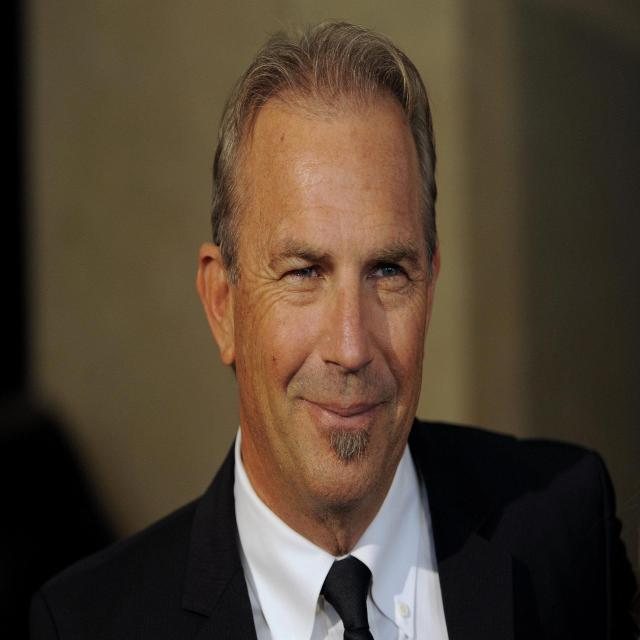no-earmuff: (196, 240, 235, 365)
